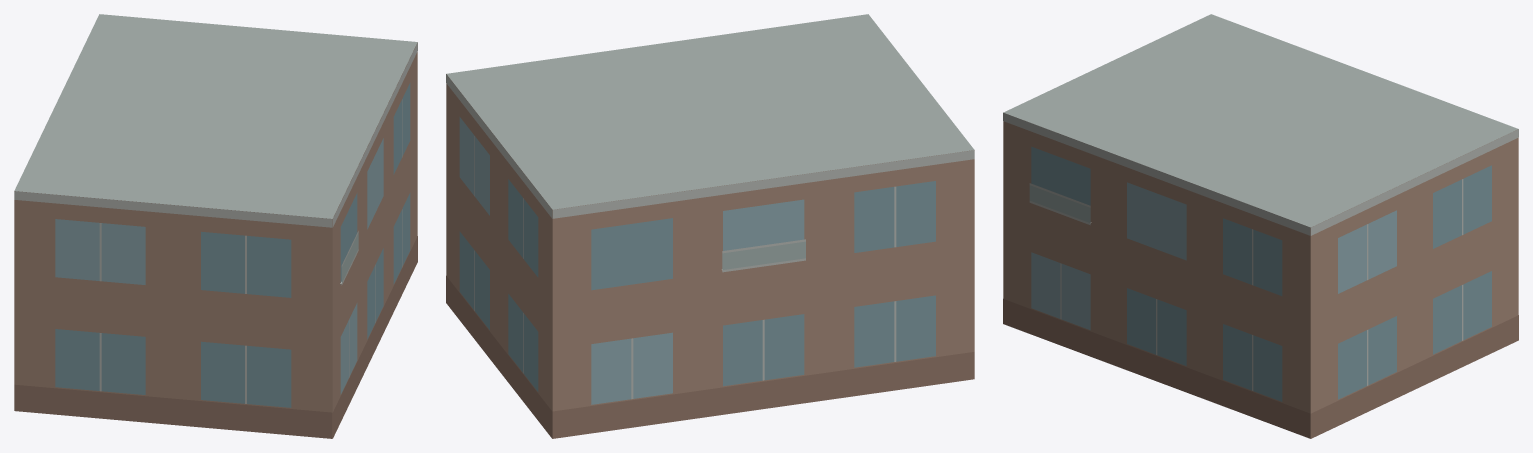
File: survey-upis-32712078.glb
3 renders of one model, left to right at view 1: azimuth 30°, elevation 25°; view 2: azimuth 150°, elevation 25°; view 3: azimuth 270°, elevation 25°, orthographic. The views are drawn at different scales.
Parts seen in each view (by area): view 1: survey-upis-32712078.tmp; view 2: survey-upis-32712078.tmp; view 3: survey-upis-32712078.tmp.
Part boxes in pixels (box(x1,y1,x2,y2)): survey-upis-32712078.tmp: box(14, 14, 417, 438); survey-upis-32712078.tmp: box(446, 14, 974, 438); survey-upis-32712078.tmp: box(1003, 14, 1518, 438).
Size of the model in its own units: 13.23 by 6.1 by 13.5.
